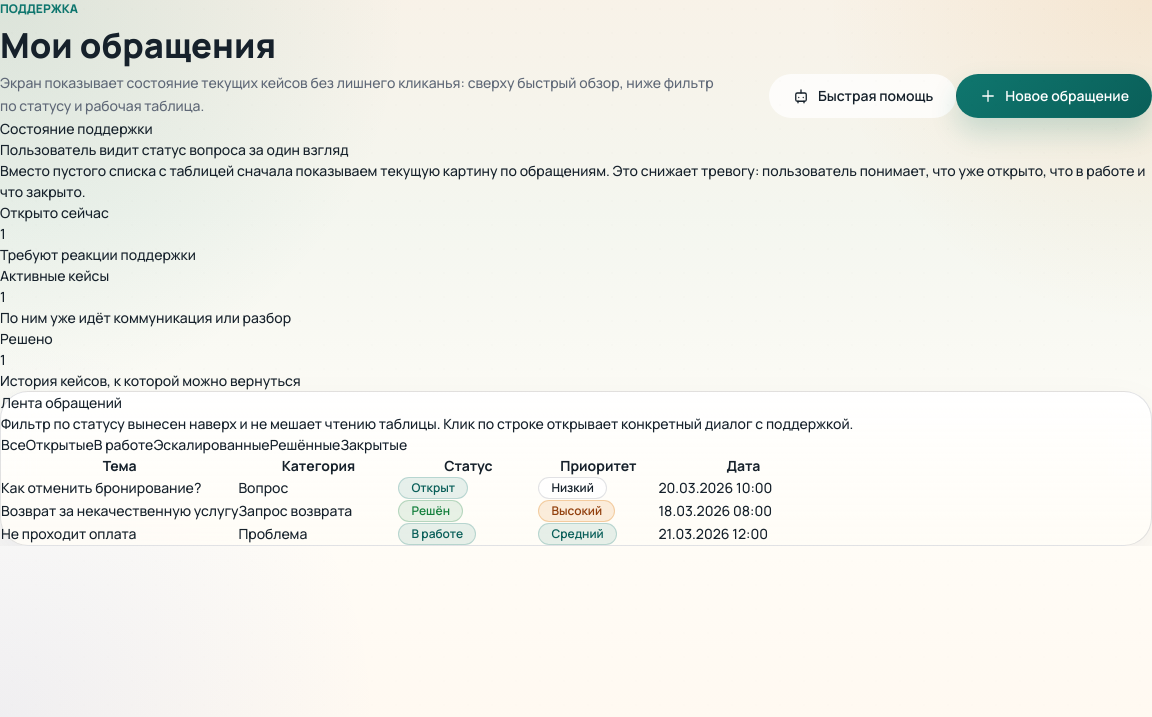
Test case: SupportTickets › opens create modal when clicking button
Click the button "Новое обращение": (1054, 96) [956,74,1151,118]
(page scrolled)
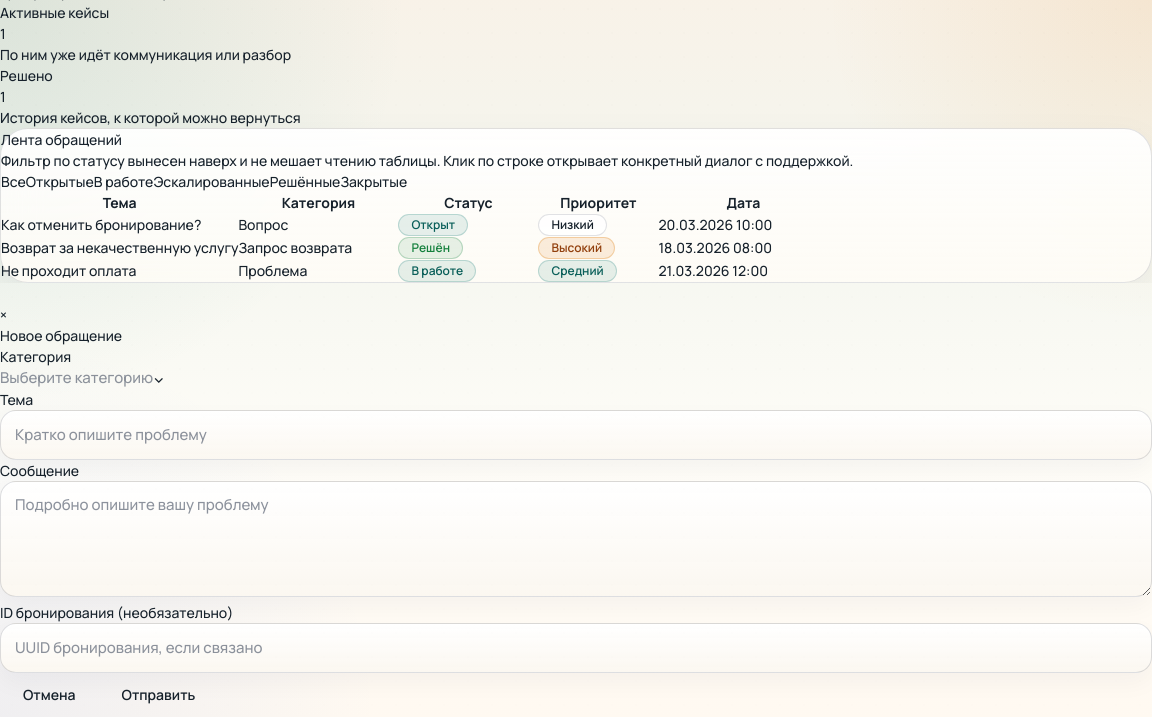
Result: the dialog is shown at [0,304,1151,716]
